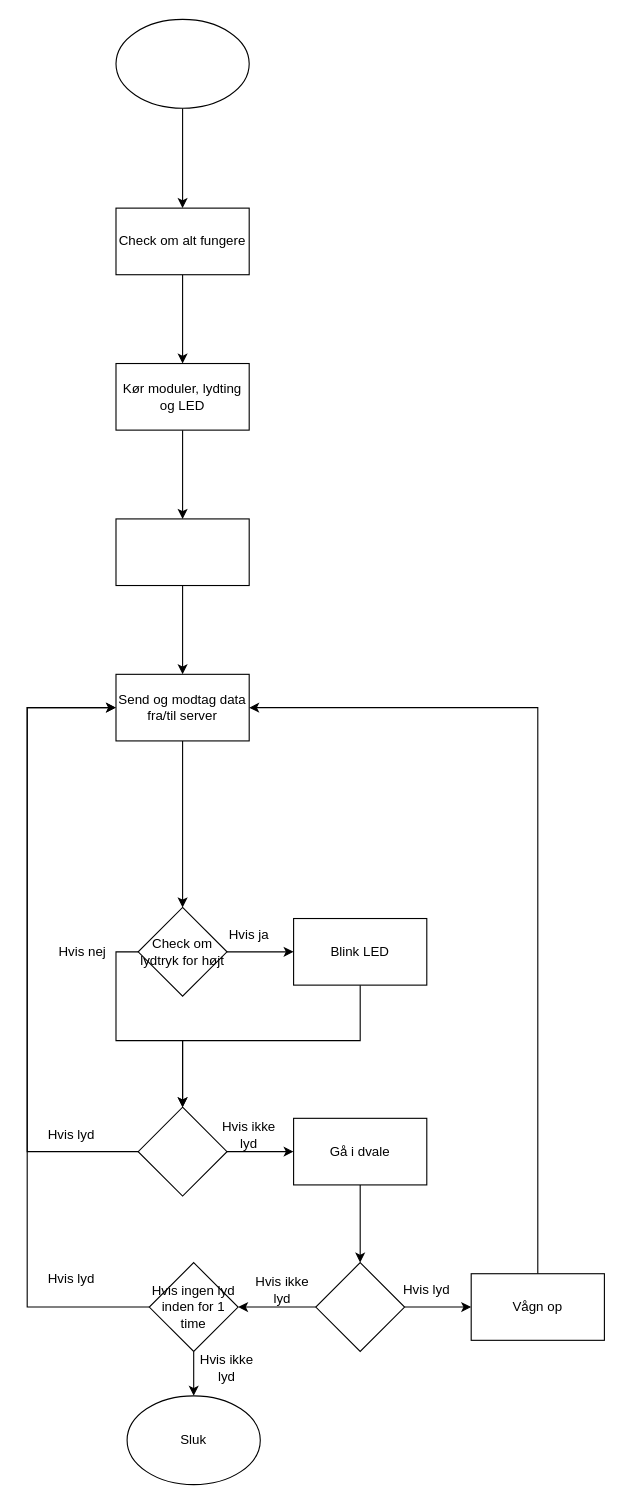
Some shapes in this 624 by 1504 pixel diagram are drawn without their labels. Each missing label, with the centre of its shape:
"Check om målt lyd inden for 1 min" goes at [182,1151].
"Mål for lyd" goes at [360,1306].
"Opret forbindelse til server" goes at [182,552].
"Start" goes at [182,63].
